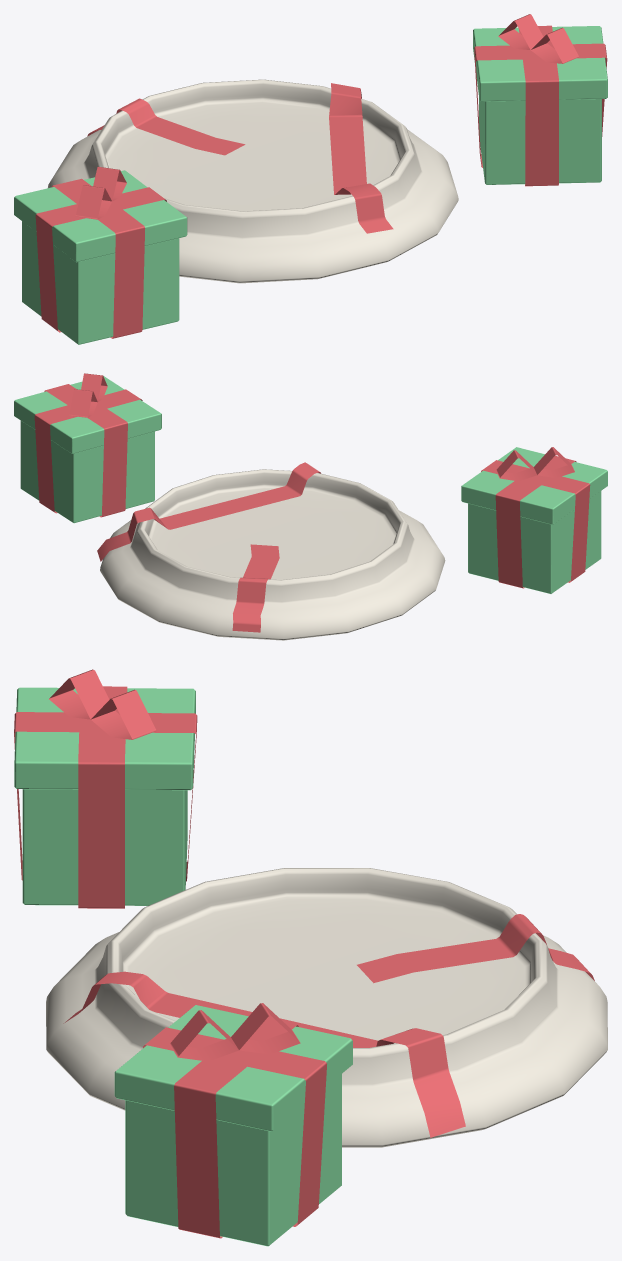
File: gift_Platform002.fbx
The picture shows the model from 3 angles, top to bottom: view 1: azimuth 30°, elevation 25°; view 2: azimuth 150°, elevation 25°; view 3: azimuth 270°, elevation 25°; orthographic projection. The views are drawn at different scales.
Parts seen in each view (by area): view 1: Box.001; view 2: Box.001; view 3: Box.001.
Part boxes in pixels (bbox=[...]): Box.001: bbox=[14, 14, 607, 344]; Box.001: bbox=[14, 373, 607, 640]; Box.001: bbox=[14, 669, 607, 1246].
Size of the model in its own units: 392 by 83.95 by 235.
